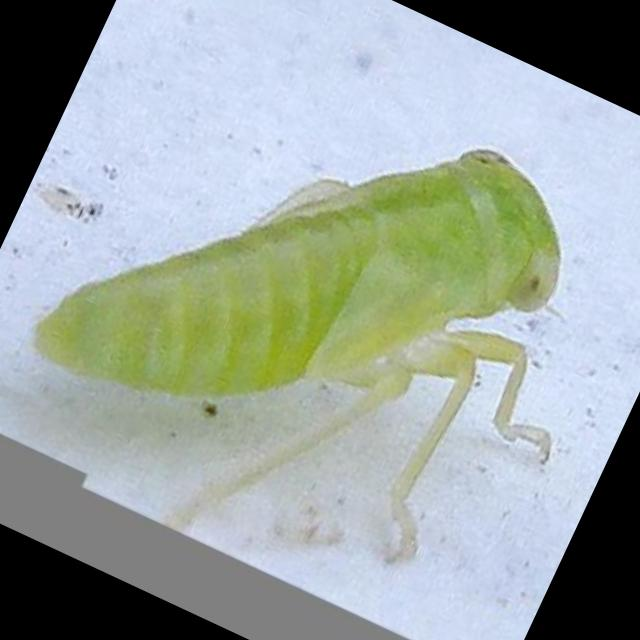green-leafhopper: (29, 146, 563, 567)
